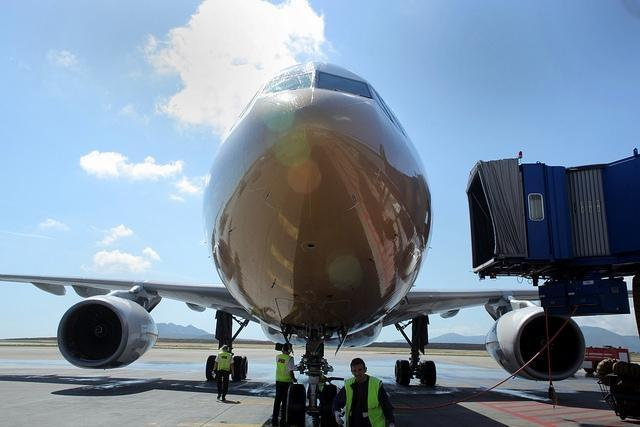truck: (585, 345, 631, 374)
